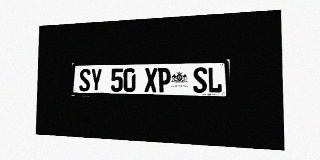0: (123, 68, 136, 92)
5: (111, 68, 123, 92)
L: (207, 67, 222, 93)
P: (158, 68, 171, 92)
S: (193, 67, 207, 93), (79, 69, 90, 92)
X: (144, 68, 157, 92)
Y: (90, 69, 102, 92)
